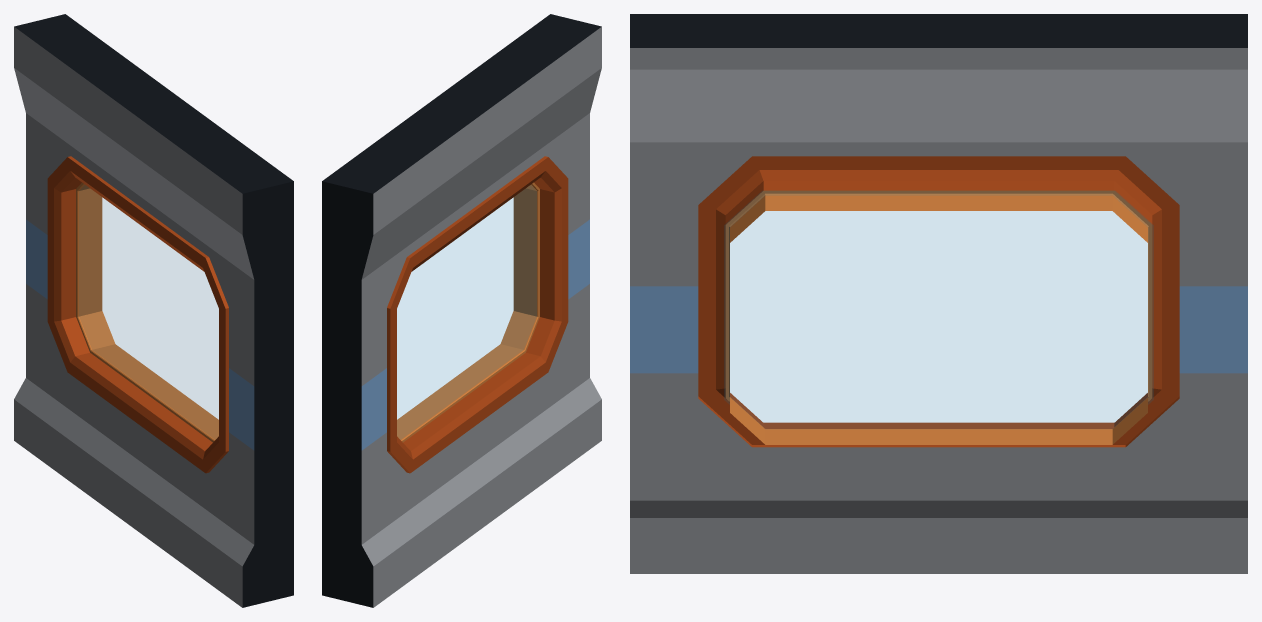
File: sm_Wall_Straight_B_01.fbx
3 views of the same model, side by side, from view 1: azimuth 30°, elevation 25°; view 2: azimuth 150°, elevation 25°; view 3: azimuth 270°, elevation 25° (orthographic). The views are drawn at different scales.
Visible parts, largest first — view 1: Wall_Straight_B_01; view 2: Wall_Straight_B_01; view 3: Wall_Straight_B_01.
Part boxes in pixels (x1,y1,x2,y2): Wall_Straight_B_01: (14,14,293,607); Wall_Straight_B_01: (322,14,601,607); Wall_Straight_B_01: (630,14,1247,573).
Size of the model in its own units: 200 by 200 by 26.
